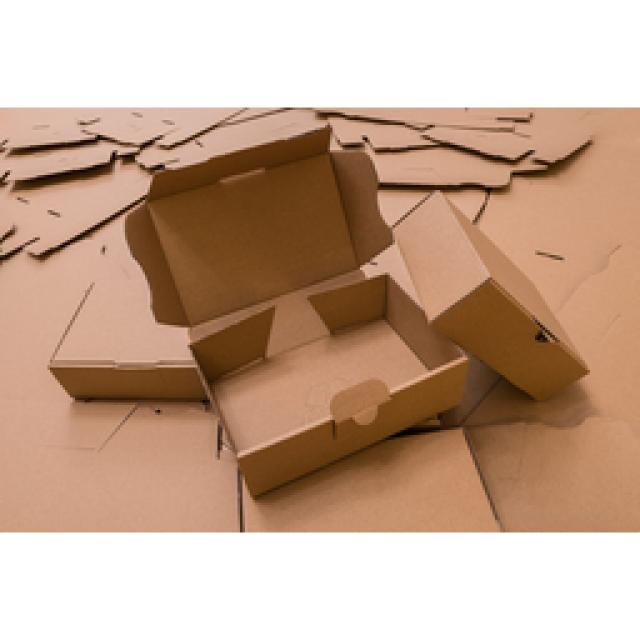cardboard: (124, 126, 469, 499), (1, 107, 594, 262), (392, 187, 591, 405), (47, 281, 204, 401)
